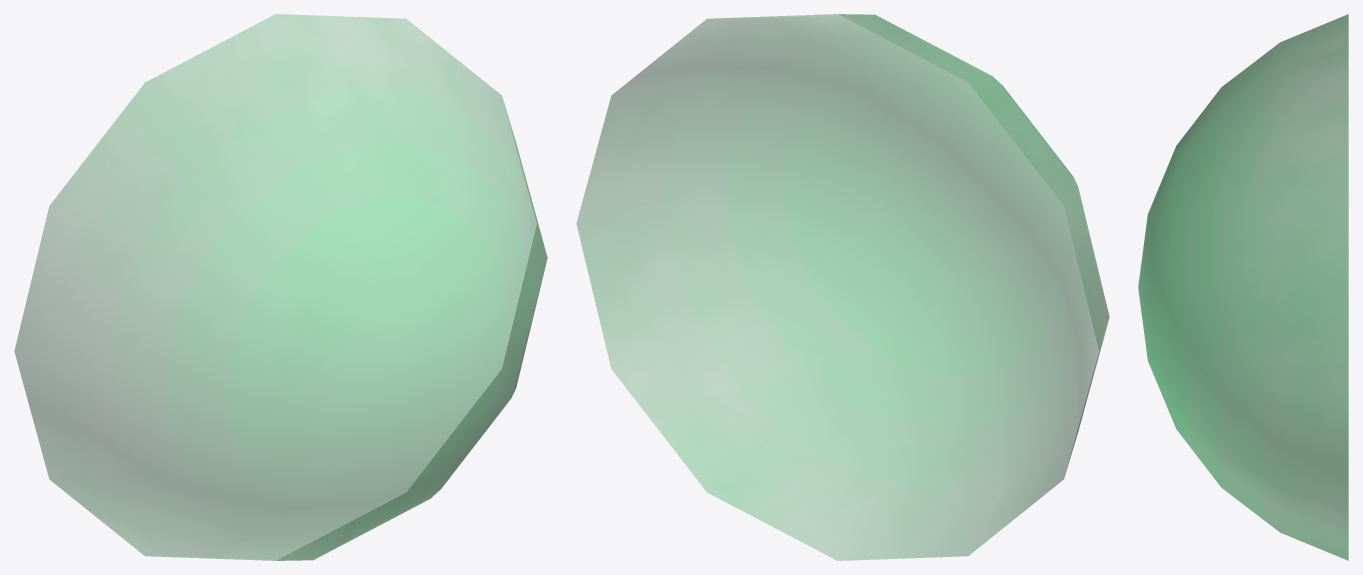
File: effect02.fbx
3 views of the same model, side by side, from view 1: azimuth 30°, elevation 25°; view 2: azimuth 150°, elevation 25°; view 3: azimuth 270°, elevation 25° (orthographic). The views are drawn at different scales.
Parts seen in each view (by area): view 1: pSphere1; view 2: pSphere1; view 3: pSphere1.
Part boxes in pixels (x1,y1,x2,y2): pSphere1: (14, 14, 547, 560); pSphere1: (576, 14, 1109, 560); pSphere1: (1138, 14, 1348, 560).
Size of the model in its own units: 245 by 245 by 94.18.
